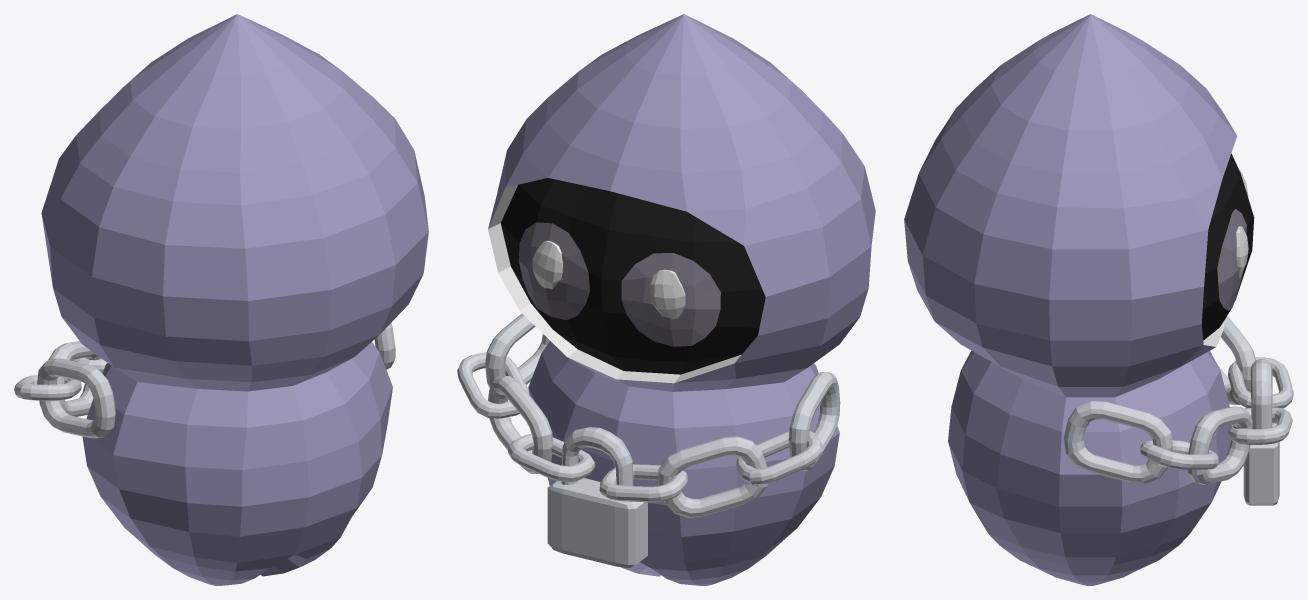
The model's file is Virus_Boss.fbx.
3 views of the same model, side by side, from view 1: azimuth 30°, elevation 25°; view 2: azimuth 150°, elevation 25°; view 3: azimuth 270°, elevation 25° (orthographic).
Parts seen in each view (by area): view 1: Virus_Boss; view 2: Virus_Boss; view 3: Virus_Boss.
Boxes of the visible parts, left/top/right/bottom form: Virus_Boss: left=14, top=14, right=428, bottom=585; Virus_Boss: left=457, top=14, right=875, bottom=585; Virus_Boss: left=904, top=14, right=1293, bottom=585.
Size of the model in its own units: 201 by 190 by 300.
